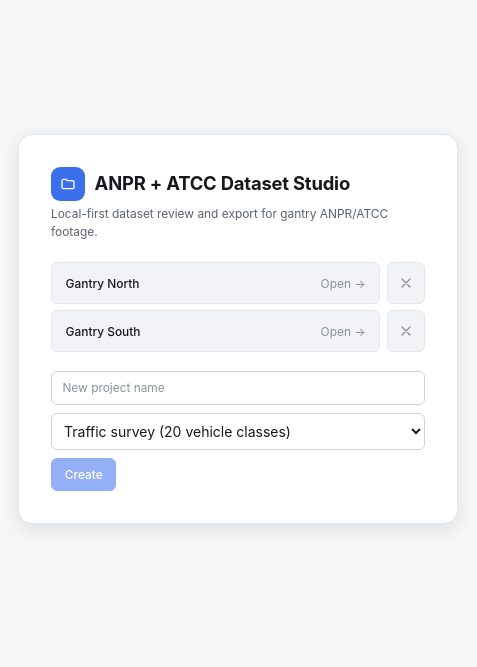
Test: ProjectPicker: deleting a project › says what deleting would destroy before asking
Expected: the text "Gantry North" is shown, 66,276 -> 139,290
Step 1. Click the 1st button with test id "delete-project" → (406, 283), box 387,262 -> 425,304
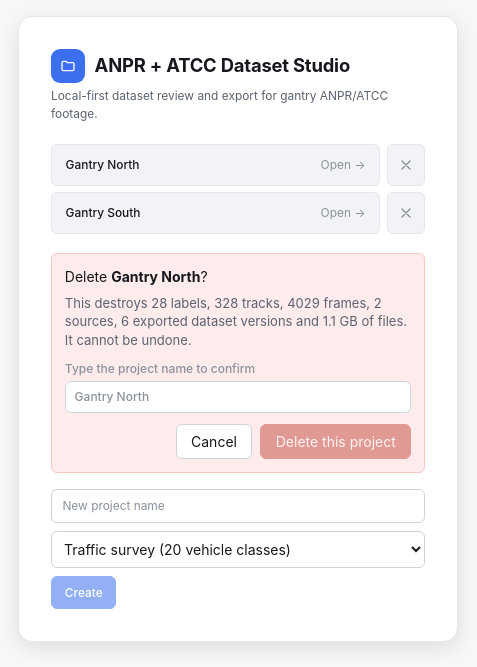
Now the text with test id "delete-summary" shows "28", box 65,294 -> 407,348
Now the text with test id "delete-summary" shows "328", box 65,294 -> 407,348
Now the text with test id "delete-summary" shows "6", box 65,294 -> 407,348
